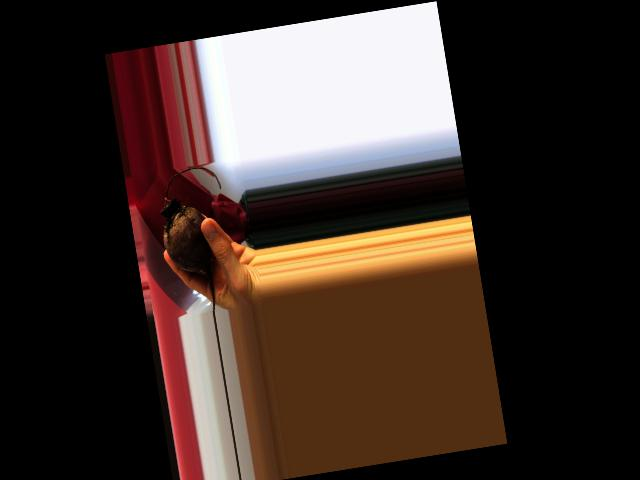beet: (153, 163, 240, 317)
